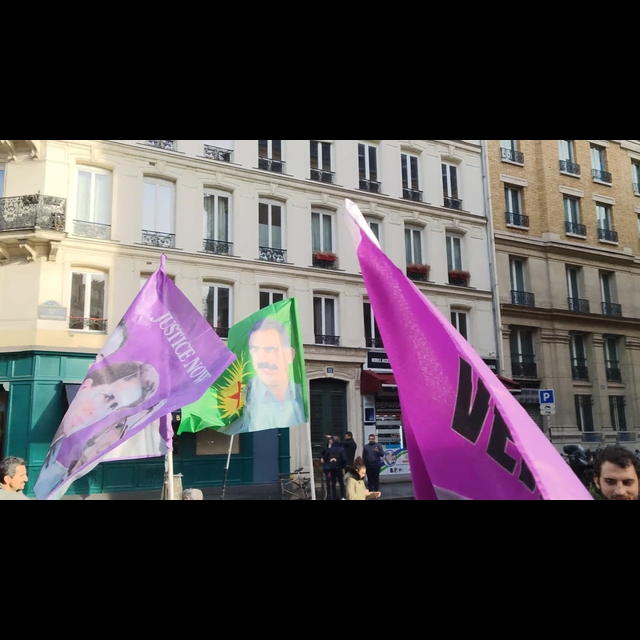APO: (248, 322, 297, 403)
